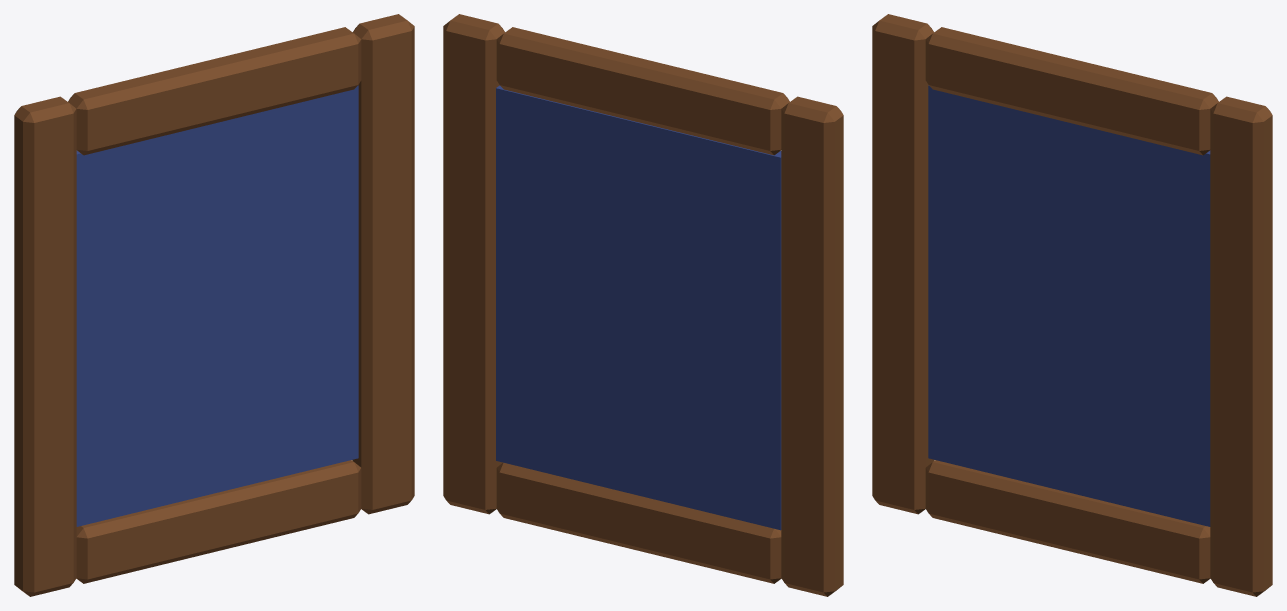
The model's file is poster_frame_bold.glb.
3 views of the same model, side by side, from view 1: azimuth 30°, elevation 25°; view 2: azimuth 150°, elevation 25°; view 3: azimuth 330°, elevation 25° (orthographic).
Parts seen in each view (by area): view 1: poster_frame_bold; view 2: poster_frame_bold; view 3: poster_frame_bold.
Boxes of the visible parts, x1,y1,x2,y2 form: poster_frame_bold: (14,14,414,596); poster_frame_bold: (443,14,843,596); poster_frame_bold: (872,14,1272,596).
Size of the model in its own units: 0.66 by 0.78 by 0.05.
